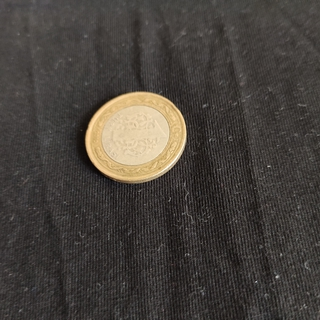1TL: (82, 88, 189, 186)
